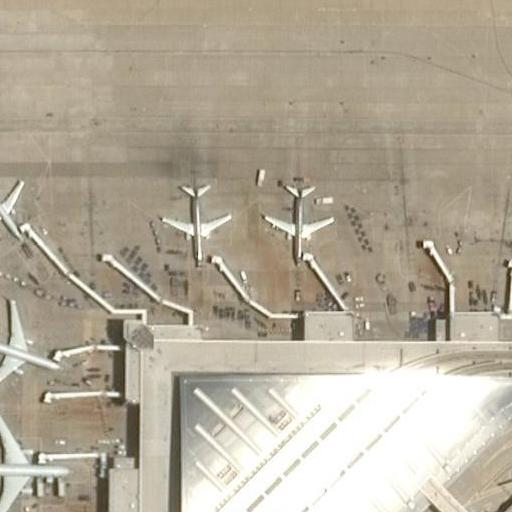Aircraft: (255, 167, 340, 269), (0, 398, 74, 512), (159, 175, 233, 266), (0, 294, 61, 394), (0, 154, 35, 244)
